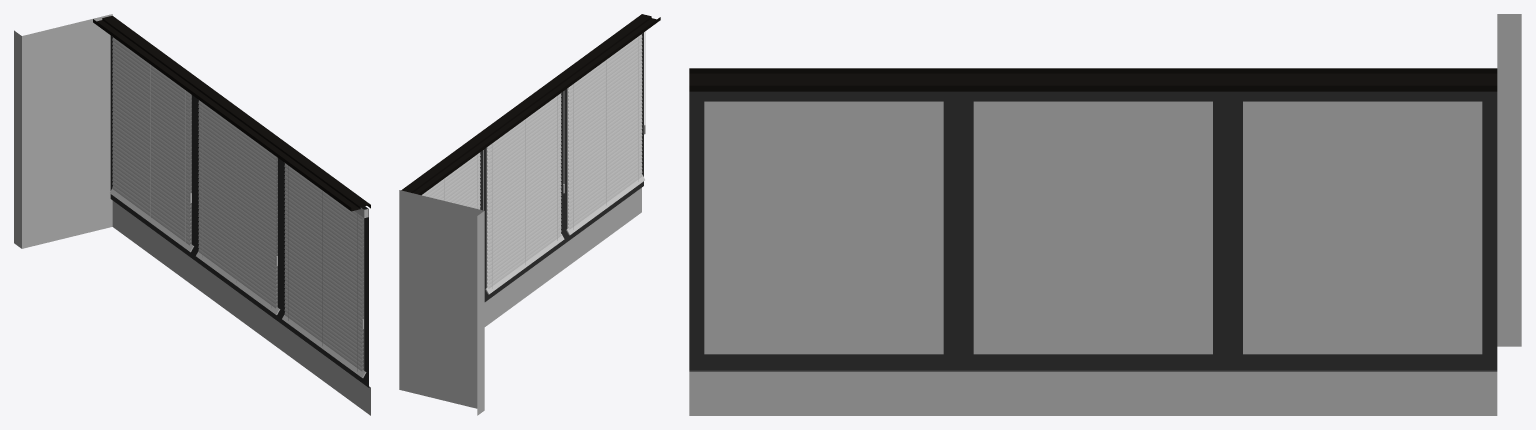
Rendered from Window.fbx.
The picture shows the model from 3 angles, left to right: view 1: azimuth 30°, elevation 25°; view 2: azimuth 150°, elevation 25°; view 3: azimuth 270°, elevation 25°; orthographic projection. The views are drawn at different scales.
Parts seen in each view (by area): view 1: Wall.002, Floor.016, Floor.006, Floor.015, Wall.008, Wall.001, Window, Window.001, Window.002, Wall.009; view 2: Wall.002, Floor.015, Floor.016, Wall.001, Wall.008, Floor.006, Window.002, Window.001, Wall.009; view 3: Window.002, Window, Window.001, Wall.008, Wall.001, Wall.002.
Boxes of the visible parts, x1,y1,x2,y2 form: Wall.002: [14, 14, 112, 248]; Floor.016: [282, 162, 368, 377]; Floor.006: [110, 36, 193, 252]; Floor.015: [196, 100, 280, 314]; Wall.008: [112, 201, 370, 415]; Wall.001: [93, 15, 370, 211]; Window: [110, 35, 196, 261]; Window.001: [196, 98, 282, 324]; Window.002: [283, 162, 370, 387]; Wall.009: [14, 118, 110, 176]; Wall.002: [399, 190, 484, 415]; Floor.015: [485, 91, 564, 294]; Floor.016: [566, 31, 645, 235]; Wall.001: [401, 14, 660, 195]; Wall.008: [484, 187, 641, 326]; Floor.006: [422, 150, 483, 210]; Window.002: [563, 32, 643, 244]; Window.001: [482, 92, 562, 301]; Wall.009: [399, 288, 484, 347]; Window.002: [689, 91, 958, 371]; Window: [1228, 91, 1497, 371]; Window.001: [958, 91, 1227, 371]; Wall.008: [689, 371, 1497, 415]; Wall.001: [689, 68, 1497, 91]; Wall.002: [1497, 14, 1521, 346].
Bounding box in the file's own units: 134 × 300 × 680.
